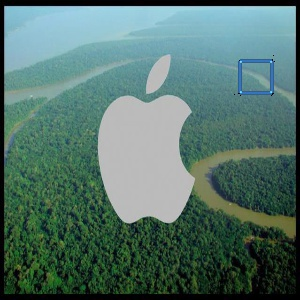square: (236, 56, 275, 97)
